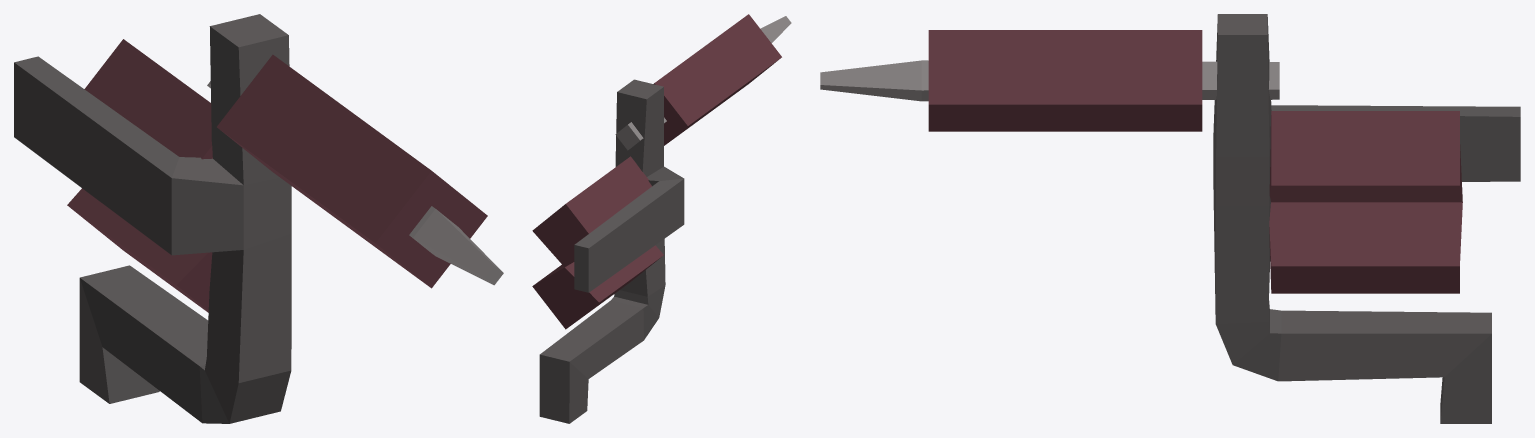
Rendered from tattoogun.fbx.
3 renders of one model, left to right at view 1: azimuth 30°, elevation 25°; view 2: azimuth 150°, elevation 25°; view 3: azimuth 270°, elevation 25°, orthographic. The views are drawn at different scales.
Parts seen in each view (by area): view 1: tattoogun; view 2: tattoogun; view 3: tattoogun.
Part boxes in pixels (x1,y1,x2,y2): tattoogun: [14, 14, 503, 423]; tattoogun: [532, 14, 791, 423]; tattoogun: [820, 14, 1520, 423].
Size of the model in its own units: 0.0604 by 0.1974 by 0.3221.
